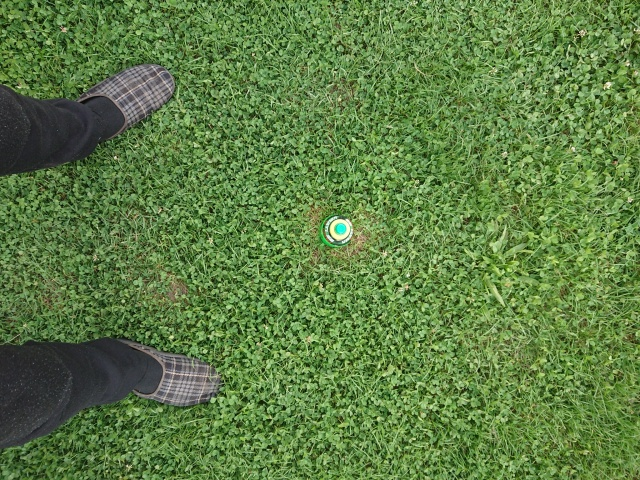Vindi Iso Sport Lemon-Grapefruit 500mL: (315, 212, 356, 251)
